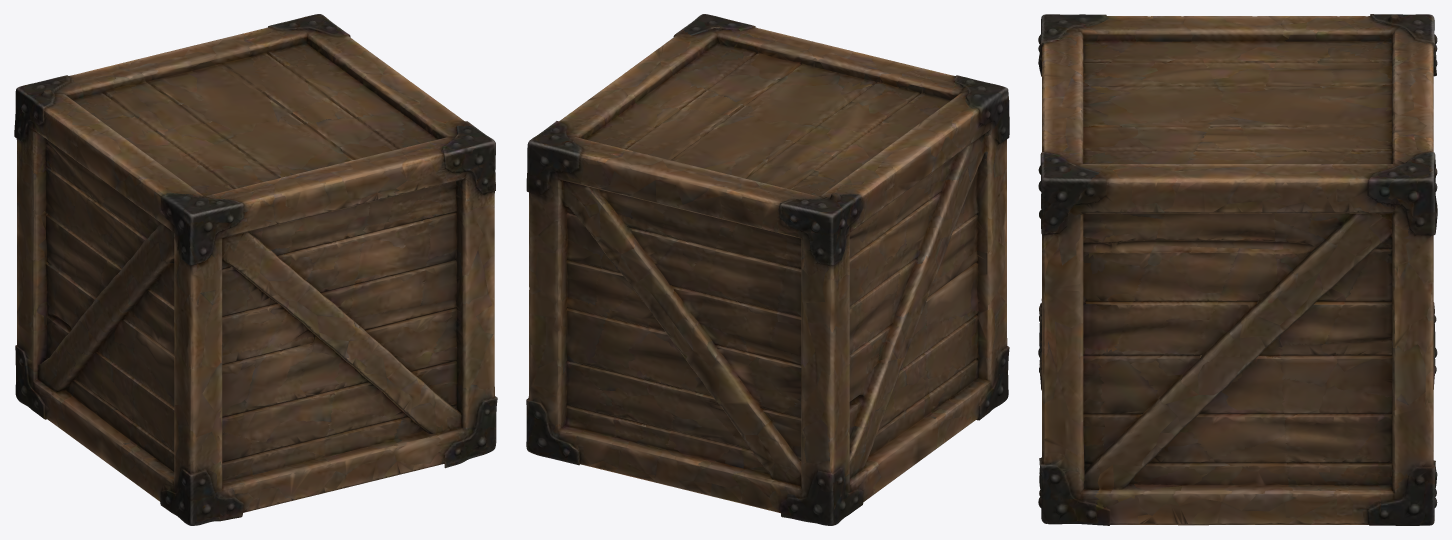
File: wooden-crate.glb
The picture shows the model from 3 angles, left to right: view 1: azimuth 30°, elevation 25°; view 2: azimuth 150°, elevation 25°; view 3: azimuth 270°, elevation 25°; orthographic projection. The views are drawn at different scales.
Parts seen in each view (by area): view 1: mesh_node; view 2: mesh_node; view 3: mesh_node.
Part boxes in pixels (x1=…): mesh_node: x1=14, y1=14, x2=497, y2=525; mesh_node: x1=526, y1=14, x2=1009, y2=525; mesh_node: x1=1038, y1=14, x2=1437, y2=525.
Size of the model in its own units: 1.9 by 1.88 by 1.9.
1 material, 1 textured.
